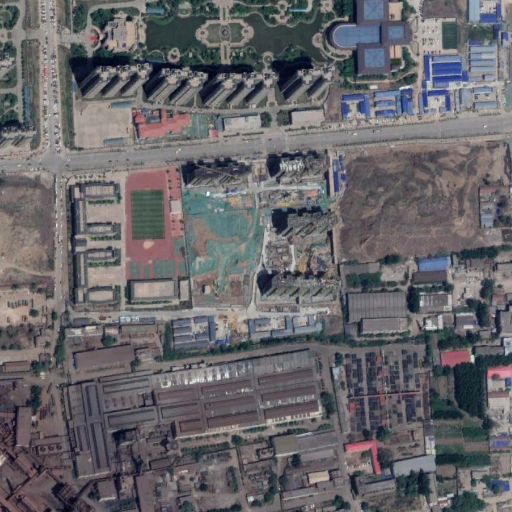cw: (183, 186, 333, 306)
